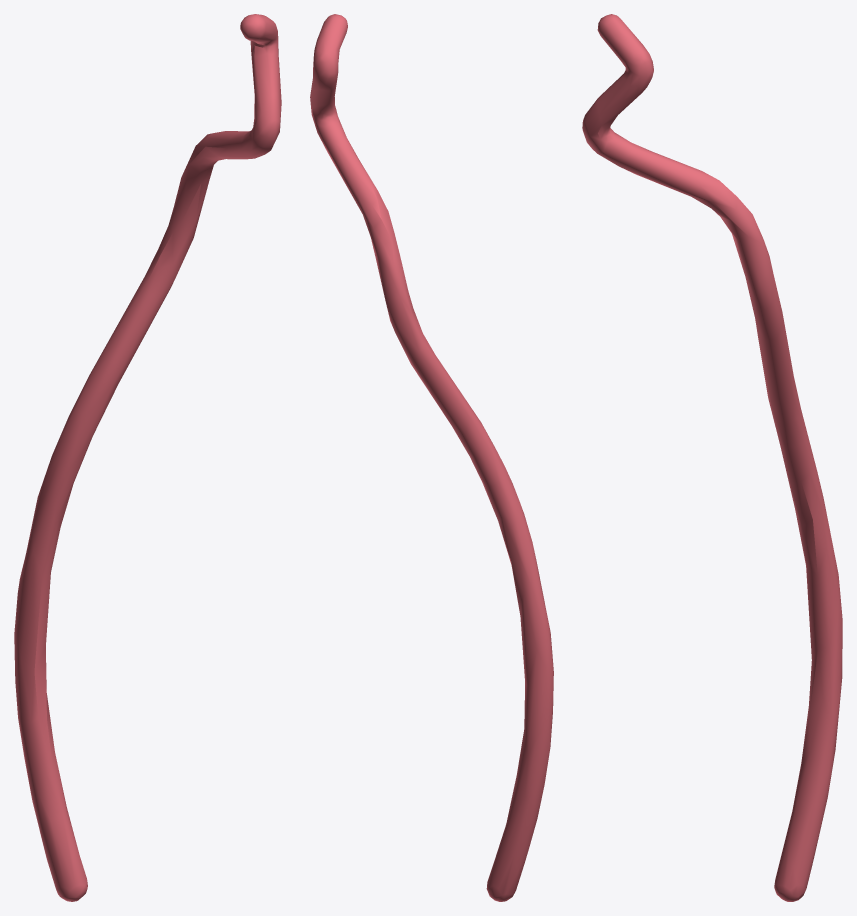
The model's file is fma75866_fj4993.glb.
3 views of the same model, side by side, from view 1: azimuth 30°, elevation 25°; view 2: azimuth 210°, elevation 25°; view 3: azimuth 270°, elevation 25° (orthographic). The views are drawn at different scales.
Parts seen in each view (by area): view 1: FMA75866_FJ4993; view 2: FMA75866_FJ4993; view 3: FMA75866_FJ4993.
Part boxes in pixels (x1=…): FMA75866_FJ4993: x1=14, y1=14, x2=281, y2=901; FMA75866_FJ4993: x1=310, y1=14, x2=553, y2=901; FMA75866_FJ4993: x1=582, y1=14, x2=842, y2=901.
Bounding box in the file's own units: 0.0206 × 0.1102 × 0.0279.
